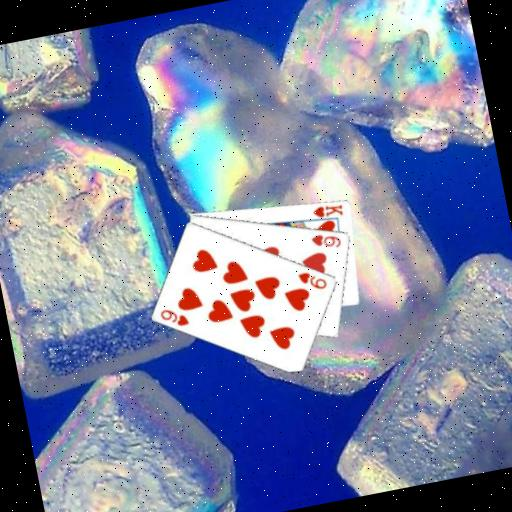6H: (308, 228, 344, 254)
9H: (294, 265, 330, 295), (156, 302, 192, 332)
KH: (309, 199, 345, 222)
